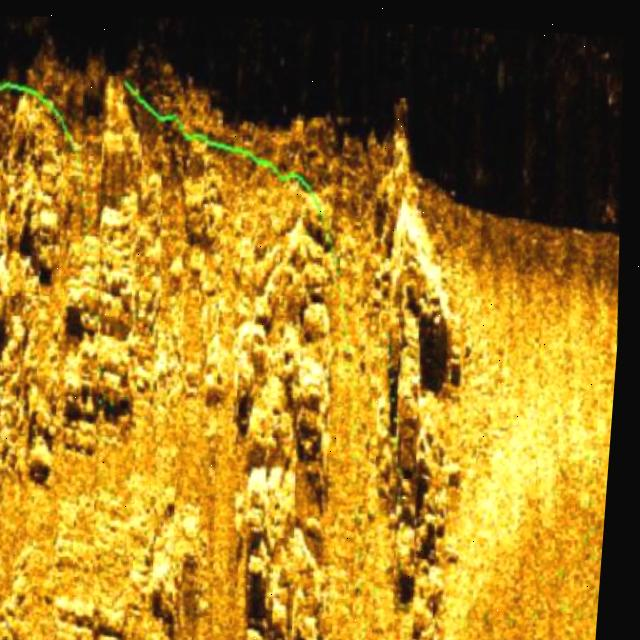bedrock group: (0, 57, 504, 640)
